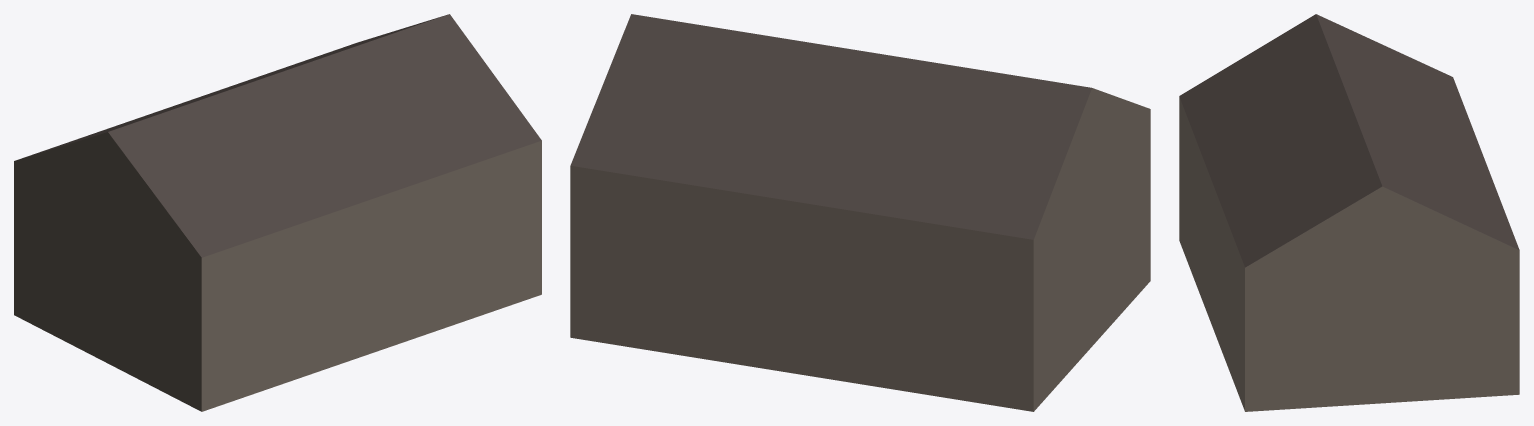
The picture shows the model from 3 angles, left to right: view 1: azimuth 30°, elevation 25°; view 2: azimuth 150°, elevation 25°; view 3: azimuth 270°, elevation 25°; orthographic projection. The views are drawn at different scales.
Visible parts, largest first — view 1: HP-w449058937; view 2: HP-w449058937; view 3: HP-w449058937.
Boxes of the visible parts, x1,y1,x2,y2 form: HP-w449058937: (14, 14, 541, 411); HP-w449058937: (570, 14, 1150, 411); HP-w449058937: (1179, 14, 1519, 411).
Bounding box in the file's own units: 25.49 × 13.53 × 19.25.
